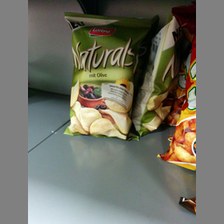chips: (66, 15, 139, 141)
